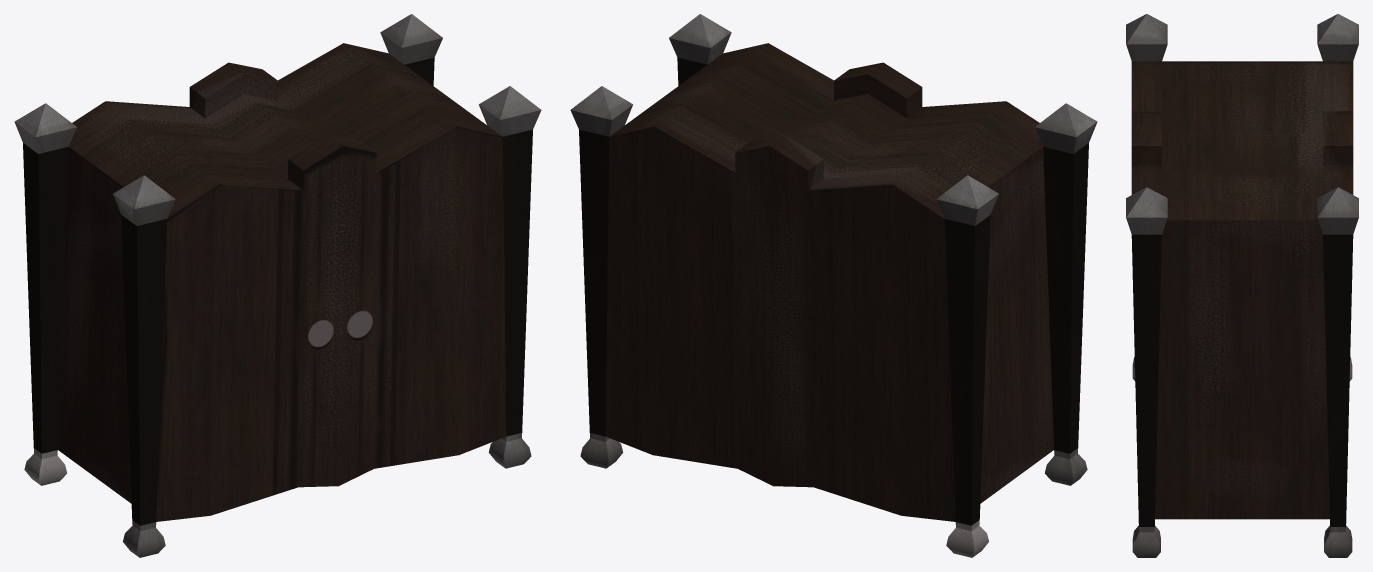
File: Closet.FBX
The picture shows the model from 3 angles, left to right: view 1: azimuth 30°, elevation 25°; view 2: azimuth 150°, elevation 25°; view 3: azimuth 270°, elevation 25°; orthographic projection. The views are drawn at different scales.
Parts seen in each view (by area): view 1: Closet_3; view 2: Closet_3; view 3: Closet_3.
Boxes of the visible parts, left/top/right/bottom form: Closet_3: left=14, top=14, right=541, bottom=557; Closet_3: left=570, top=14, right=1097, bottom=557; Closet_3: left=1126, top=14, right=1358, bottom=557.
Size of the model in its own units: 2.13 by 1.88 by 1.09.
